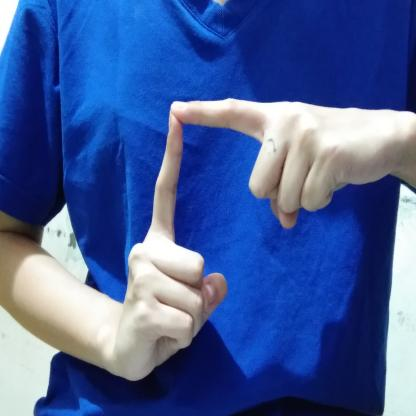when: (117, 94, 392, 397)
